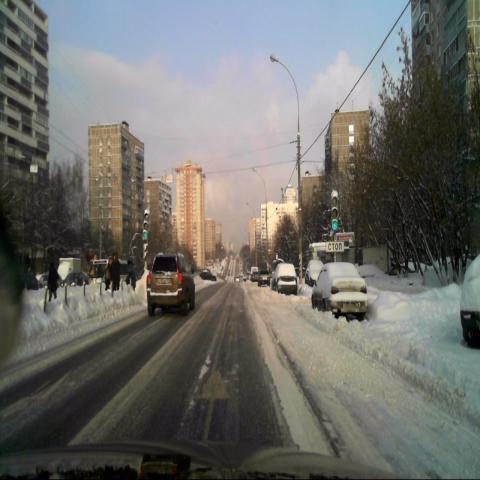6_16: (324, 239, 344, 252)
